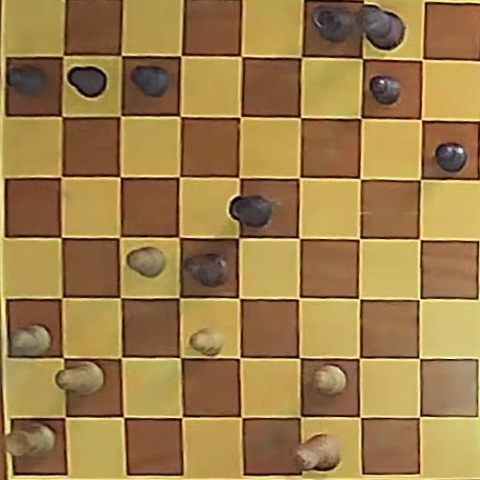black-king: (360, 6, 405, 49)
black-pawn: (185, 253, 229, 287), (67, 66, 107, 98), (131, 65, 170, 97), (7, 65, 46, 96), (435, 142, 466, 172), (370, 75, 401, 104)
black-rook: (229, 195, 275, 229), (313, 6, 354, 42)
white-bishop: (56, 362, 103, 394)
white-king: (295, 434, 341, 471)
white-pawn: (11, 325, 51, 356), (127, 246, 166, 277), (313, 365, 347, 395), (190, 328, 222, 355)
white-rook: (6, 422, 56, 458)
